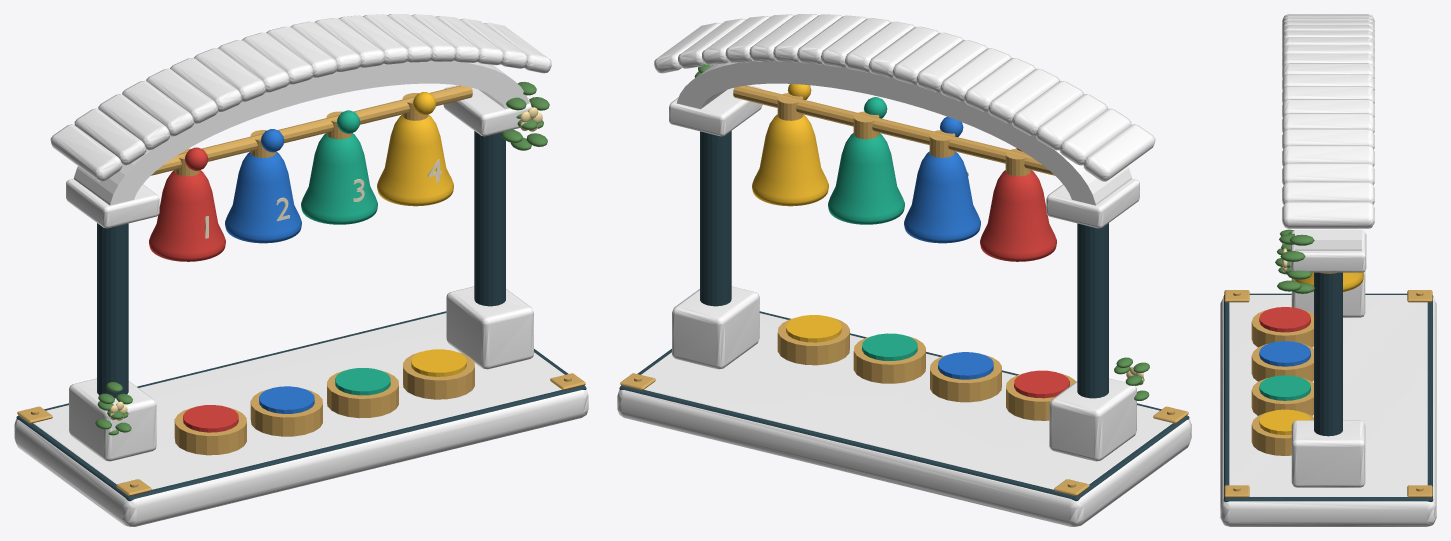
The model's file is BellStage.glb.
The picture shows the model from 3 angles, left to right: view 1: azimuth 30°, elevation 25°; view 2: azimuth 150°, elevation 25°; view 3: azimuth 270°, elevation 25°; orthographic projection. The views are drawn at different scales.
Parts seen in each view (by area): view 1: CarvedTimberBase, BellStage_RK_Tile_Puzzle, BellStage_RK_Stone_Puzzle, BellStage_PUZ_NavyIron, BellStage_PUZ_Brass, HollowBell_1, HollowBell_3, HollowBell_2, HollowBell_4, BellStage_PUZ_Leaf, Pad_1, Pad_2 (+2 smaller); view 2: CarvedTimberBase, BellStage_RK_Tile_Puzzle, BellStage_RK_Stone_Puzzle, BellStage_PUZ_NavyIron, BellStage_PUZ_Brass, HollowBell_3, HollowBell_4, HollowBell_2, HollowBell_1, Pad_3, Pad_2, Pad_4 (+2 smaller); view 3: CarvedTimberBase, BellStage_RK_Tile_Puzzle, BellStage_RK_Stone_Puzzle, BellStage_PUZ_NavyIron, BellStage_PUZ_Brass, BellStage_PUZ_Leaf, Pad_2, Pad_3, Pad_1, Pad_4, HollowBell_4.
Part boxes in pixels (x1,y1,x2,y2): CarvedTimberBase: (14, 313, 588, 526); BellStage_RK_Tile_Puzzle: (50, 14, 551, 181); BellStage_RK_Stone_Puzzle: (66, 60, 533, 461); BellStage_PUZ_NavyIron: (16, 131, 586, 501); BellStage_PUZ_Brass: (17, 85, 585, 495); HollowBell_1: (149, 170, 225, 261); HollowBell_3: (301, 133, 377, 224); HollowBell_2: (225, 151, 301, 243); HollowBell_4: (377, 114, 453, 206); BellStage_PUZ_Leaf: (95, 82, 549, 435); Pad_1: (183, 405, 238, 432); Pad_2: (259, 386, 314, 413); CarvedTimberBase: (617, 313, 1191, 526); BellStage_RK_Tile_Puzzle: (654, 14, 1155, 181); BellStage_RK_Stone_Puzzle: (669, 60, 1139, 461); BellStage_PUZ_NavyIron: (619, 131, 1189, 501); BellStage_PUZ_Brass: (620, 85, 1188, 495); HollowBell_3: (828, 133, 904, 224); HollowBell_4: (752, 114, 828, 206); HollowBell_2: (904, 151, 980, 243); HollowBell_1: (980, 170, 1056, 261); Pad_3: (862, 333, 917, 360); Pad_2: (938, 352, 993, 379); Pad_4: (786, 315, 841, 342); CarvedTimberBase: (1220, 295, 1436, 526); BellStage_RK_Tile_Puzzle: (1282, 14, 1374, 228); BellStage_RK_Stone_Puzzle: (1290, 229, 1366, 487); BellStage_PUZ_NavyIron: (1223, 272, 1433, 501); BellStage_PUZ_Brass: (1224, 272, 1432, 497); BellStage_PUZ_Leaf: (1275, 229, 1314, 293); Pad_2: (1259, 341, 1310, 366); Pad_3: (1259, 375, 1310, 400); Pad_1: (1259, 307, 1310, 332); Pad_4: (1259, 409, 1310, 434); HollowBell_4: (1293, 272, 1363, 291).
Size of the model in its own units: 3.55 by 2.84 by 1.55.
